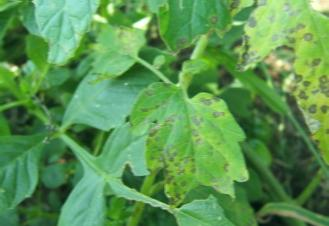Tomato Septoria leaf spot: (240, 0, 329, 204), (122, 77, 252, 207)
